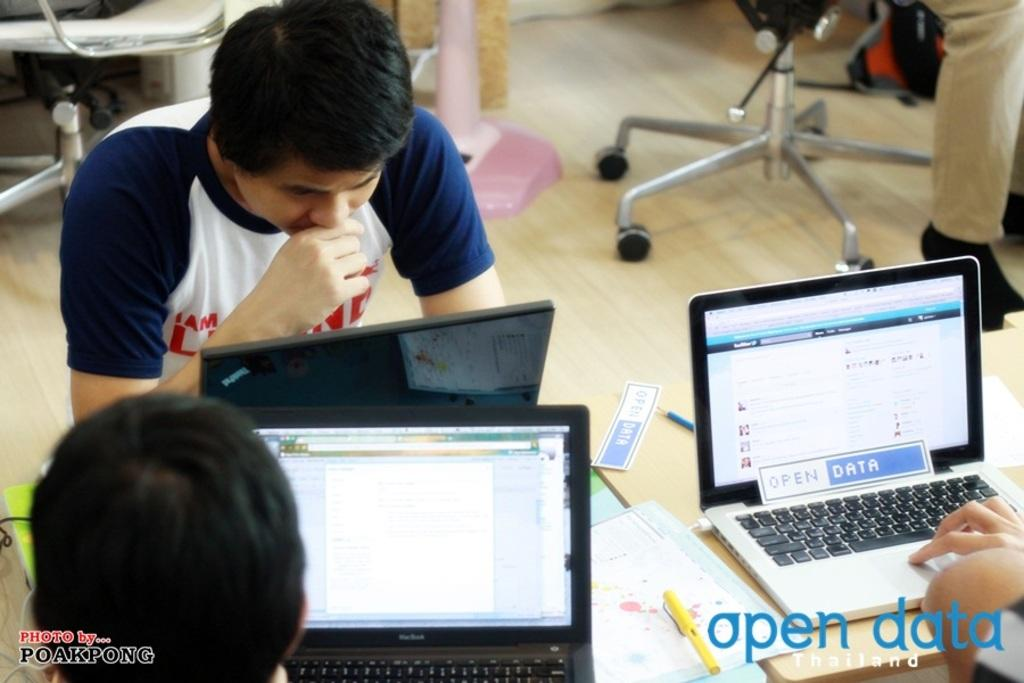Laptop: (687, 273, 1016, 619), (224, 403, 594, 682), (198, 303, 554, 403)
